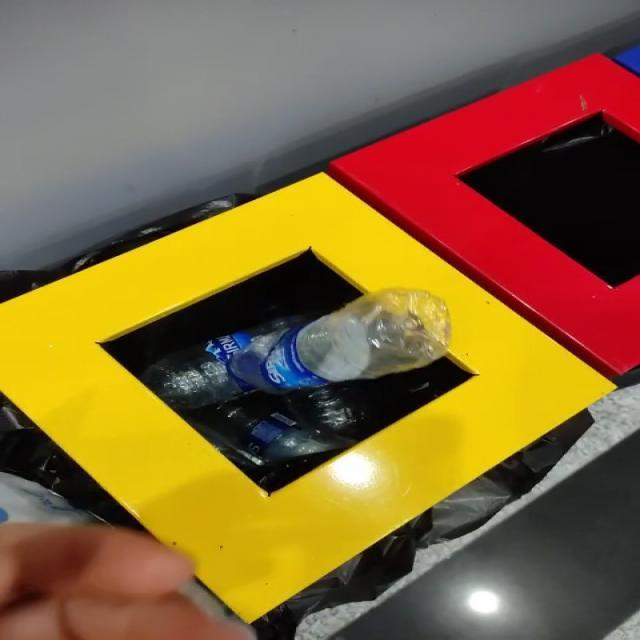Plastic: (229, 289, 451, 394)
